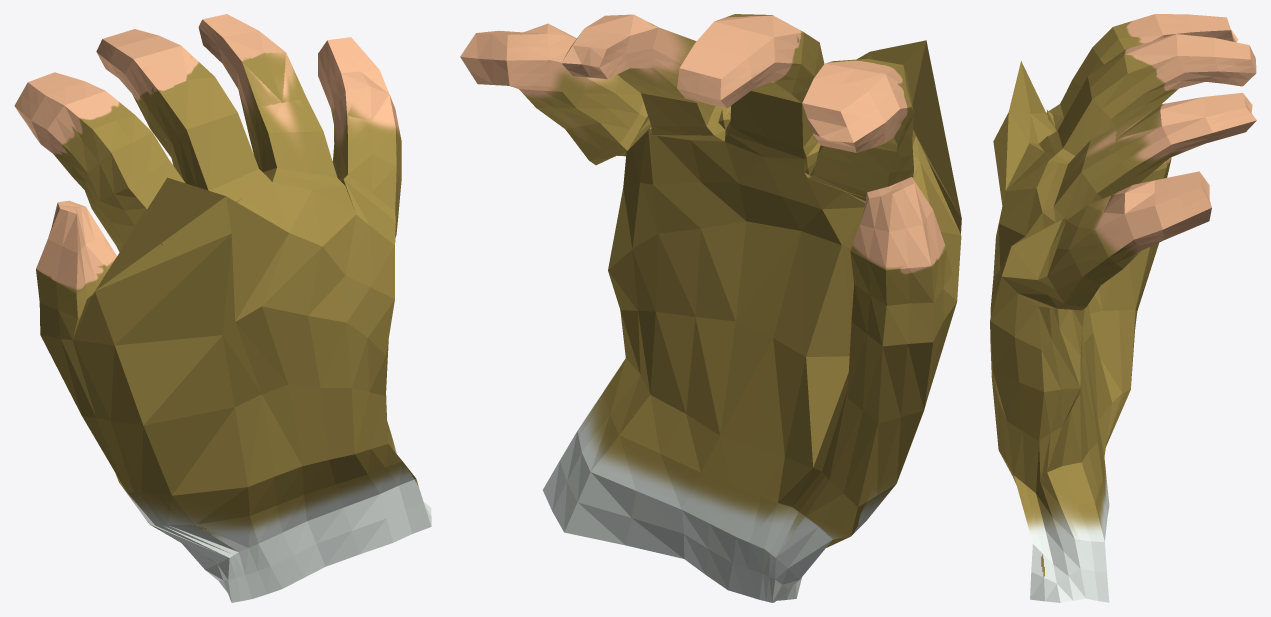
Rendered from grip0034.obj.
3 renders of one model, left to right at view 1: azimuth 30°, elevation 25°; view 2: azimuth 150°, elevation 25°; view 3: azimuth 270°, elevation 25°, orthographic. The views are drawn at different scales.
Visible parts, largest first — view 1: Hand; view 2: Hand; view 3: Hand.
Part boxes in pixels (box(x1,y1,x2,y2)): Hand: box(14, 14, 431, 602); Hand: box(460, 14, 961, 602); Hand: box(990, 14, 1256, 602).
Bounding box in the file's own units: 2.91 × 3.98 × 1.91.
